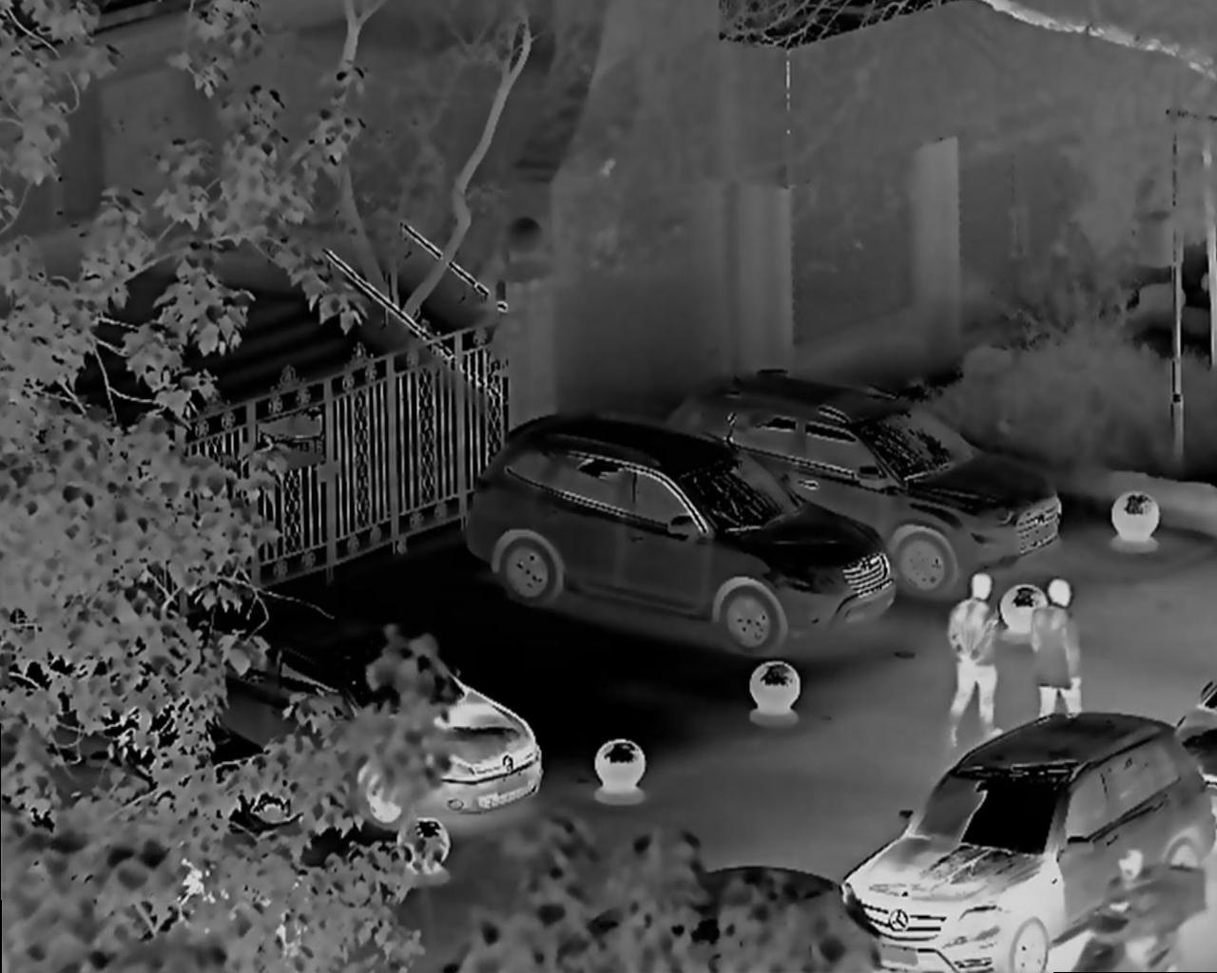person: (950, 569, 1015, 742), (1033, 571, 1090, 731), (1102, 844, 1160, 966)
